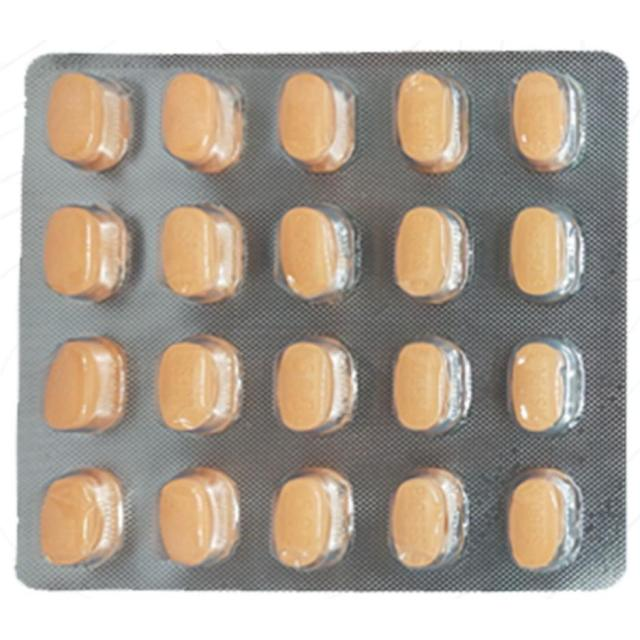blister: (10, 49, 630, 597)
